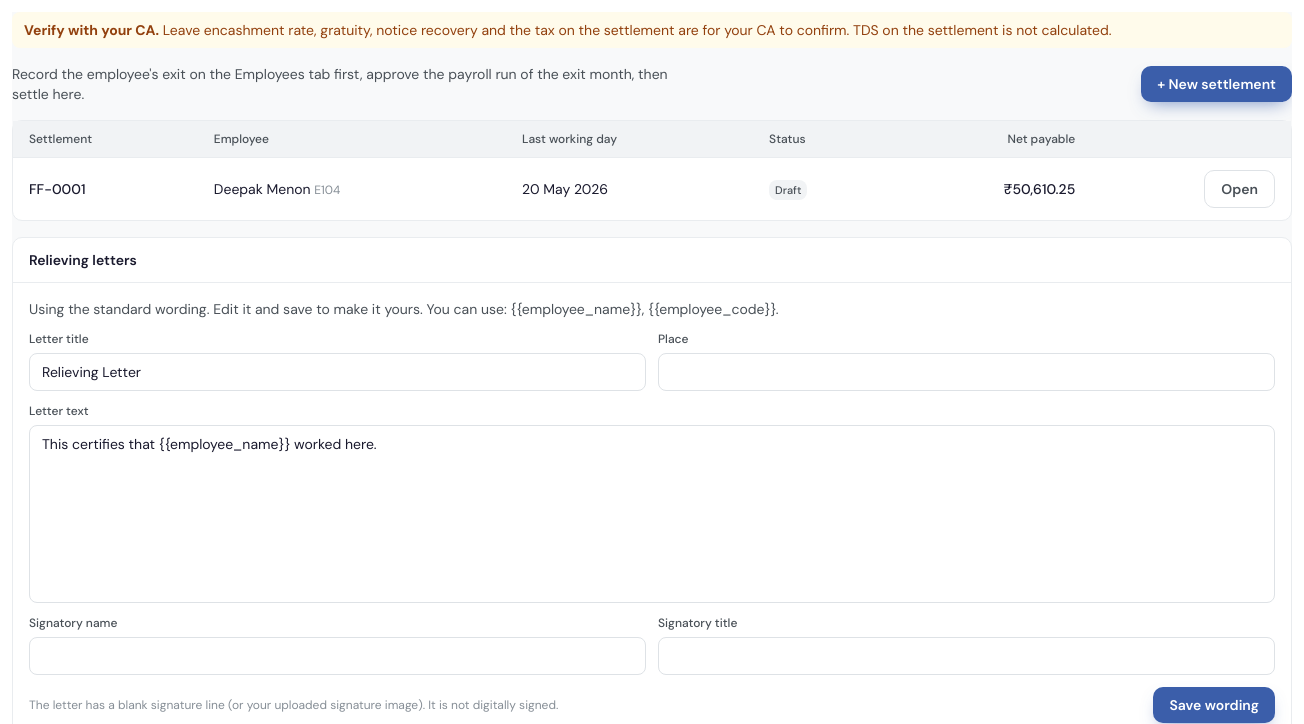
Scenario: FnfTab › shows the amounts due, the recoveries (the loan last) and the net payable
Click the button "Open" at x=1240, y=189, box [1204,170,1275,208]
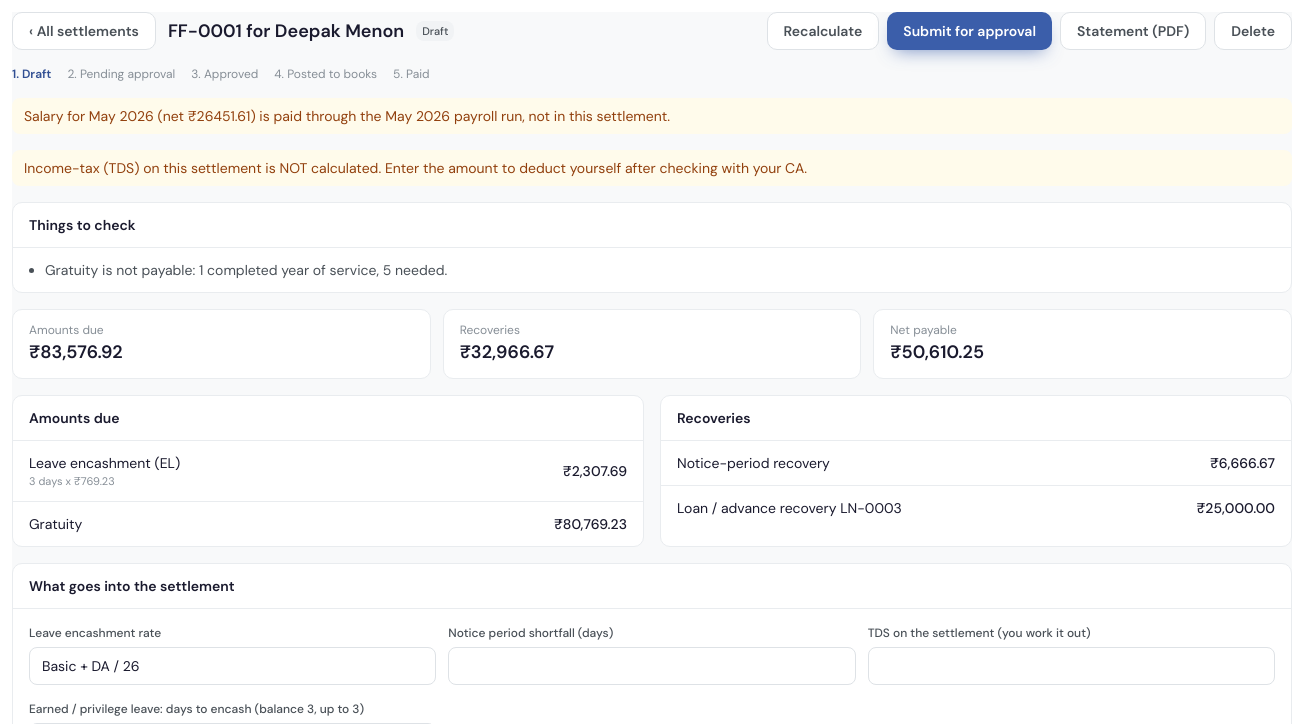
Result: the table named "Amounts due" shows "Leave encashment (EL)" at [29,454,180,472]
Result: the table named "Amounts due" shows "₹2,307.69" at [563,462,627,480]
Result: the table named "Amounts due" shows "3 days x ₹769.23" at [29,474,115,488]
